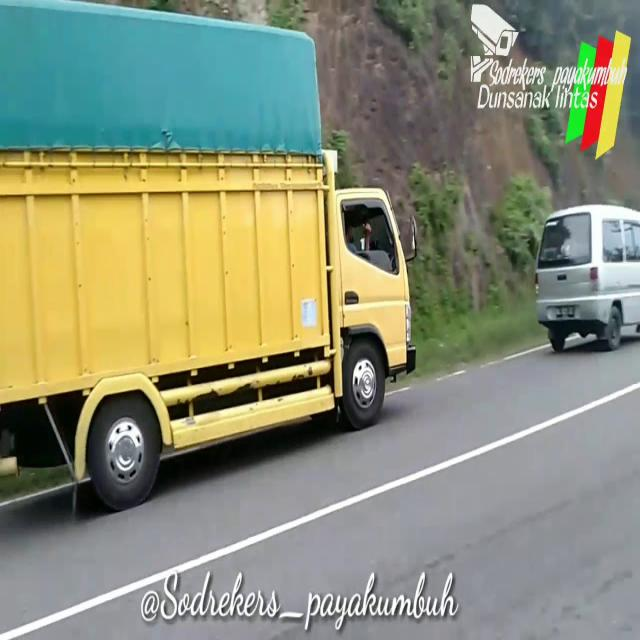truck: (0, 0, 415, 504)
